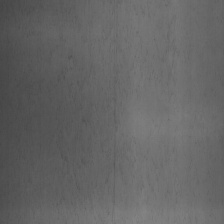silk_spot: (121, 9, 218, 206), (44, 15, 118, 170)
